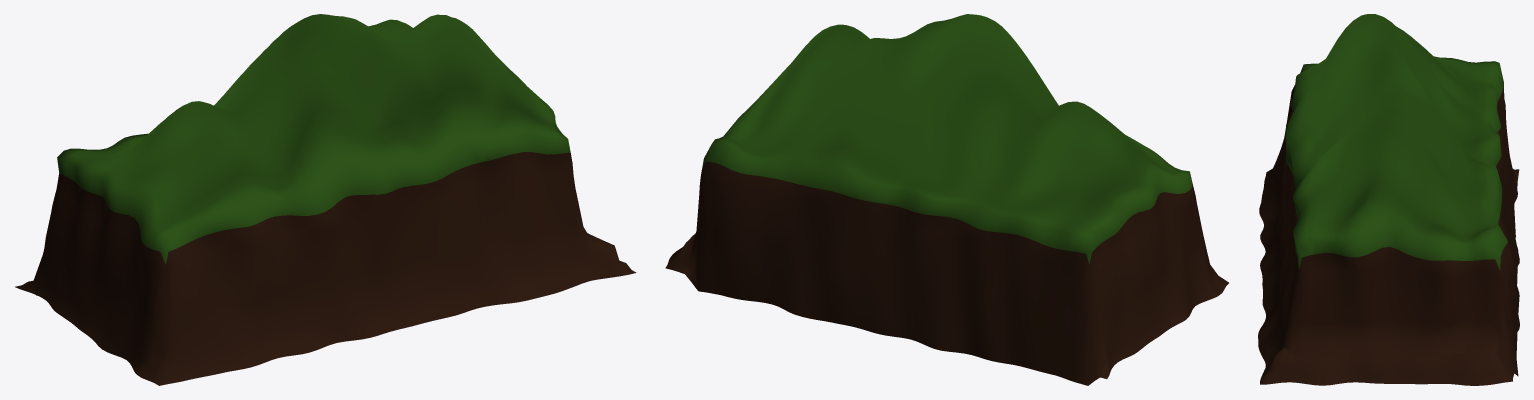
The model's file is Mountain05_Mapa08_DBZ.FBX.
3 renders of one model, left to right at view 1: azimuth 30°, elevation 25°; view 2: azimuth 150°, elevation 25°; view 3: azimuth 270°, elevation 25°, orthographic. The views are drawn at different scales.
Parts seen in each view (by area): view 1: Plane006; view 2: Plane006; view 3: Plane006.
Part boxes in pixels (x1,y1,x2,y2): Plane006: (15, 14, 636, 385); Plane006: (665, 14, 1228, 385); Plane006: (1258, 14, 1519, 385).
Bounding box in the file's own units: 569 × 324 × 290.
